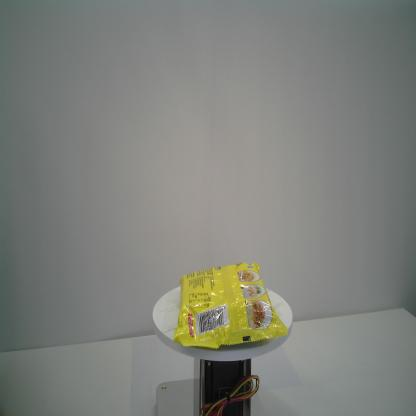Instant Noodles: (172, 260, 291, 350)
